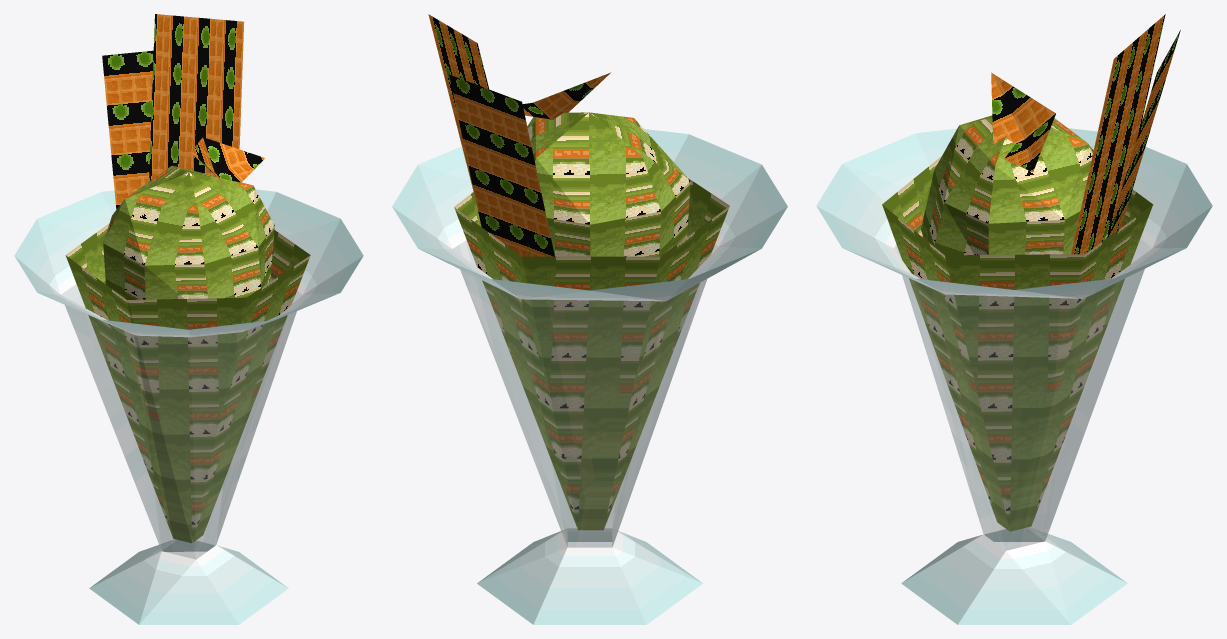
Rendered from parfait_g.gltf.
The picture shows the model from 3 angles, left to right: view 1: azimuth 30°, elevation 25°; view 2: azimuth 150°, elevation 25°; view 3: azimuth 270°, elevation 25°; orthographic projection. The views are drawn at different scales.
Visible parts, largest first — view 1: parfait_g; view 2: parfait_g; view 3: parfait_g.
Boxes of the visible parts, x1,y1,x2,y2 form: parfait_g: (14,14,363,624); parfait_g: (392,14,787,624); parfait_g: (816,14,1212,624).
Size of the model in its own units: 0.6074 by 0.9897 by 0.6055.
4 materials, 4 textured.
